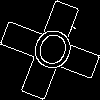O: (25, 25, 78, 83)
